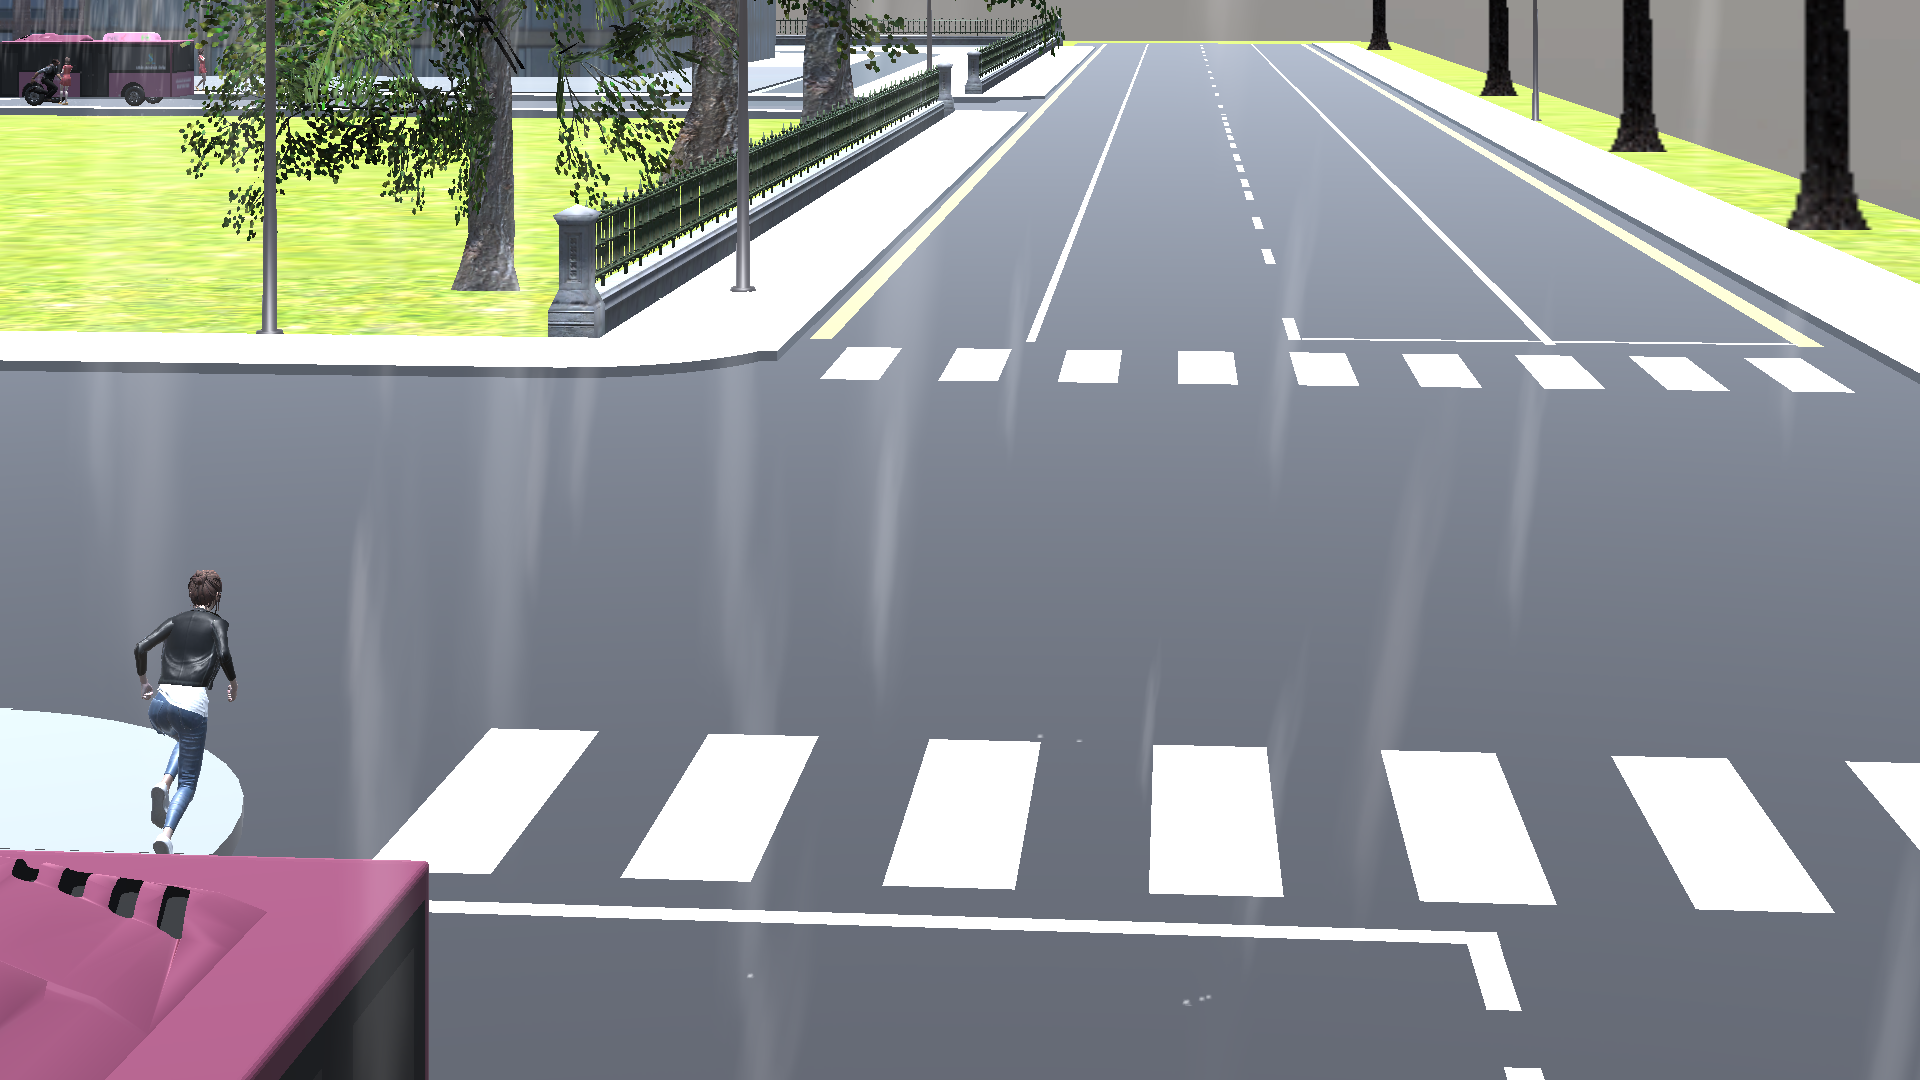pedestrian: (127, 562, 236, 858)
